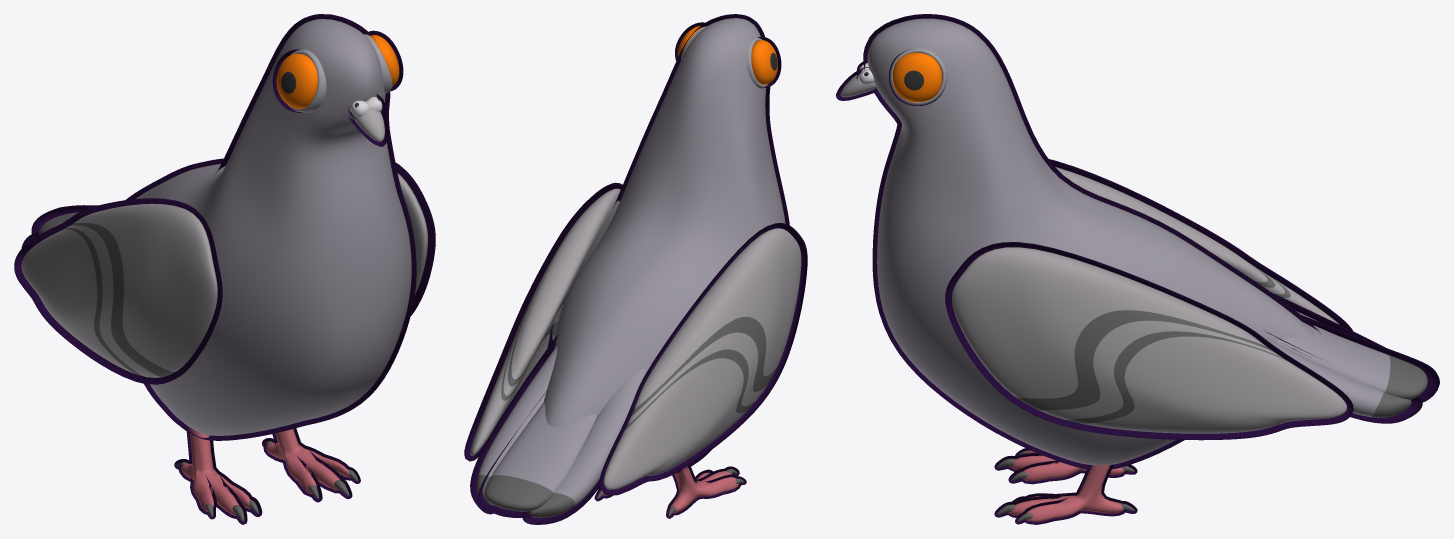
Rendered from pigeon.glb.
3 renders of one model, left to right at view 1: azimuth 30°, elevation 25°; view 2: azimuth 150°, elevation 25°; view 3: azimuth 270°, elevation 25°, orthographic. The views are drawn at different scales.
Parts seen in each view (by area): view 1: polySurface71, polySurface74, polySurface91, polySurface69, polySurface70, polySurface76, polySurface73, polySurface68, polySurface56, polySurface75; view 2: polySurface71, polySurface74, polySurface72, polySurface91, polySurface73, polySurface69, polySurface76; view 3: polySurface71, polySurface73, polySurface91, polySurface72, polySurface74, polySurface70, polySurface75, polySurface69, polySurface67.
Part boxes in pixels (<box>): polySurface71: <box>135,19,411,435</box>; polySurface74: <box>21,203,217,377</box>; polySurface91: <box>14,14,435,524</box>; polySurface69: <box>181,427,251,515</box>; polySurface70: <box>266,429,350,493</box>; polySurface76: <box>276,53,317,108</box>; polySurface73: <box>397,173,427,295</box>; polySurface68: <box>288,49,326,112</box>; polySurface56: <box>352,108,384,141</box>; polySurface75: <box>370,35,399,86</box>; polySurface71: <box>544,18,785,427</box>; polySurface74: <box>603,228,801,489</box>; polySurface72: <box>477,346,646,517</box>; polySurface91: <box>464,14,807,524</box>; polySurface73: <box>470,188,620,455</box>; polySurface69: <box>670,466,738,512</box>; polySurface76: <box>751,40,777,84</box>; polySurface71: <box>867,18,1313,465</box>; polySurface73: <box>952,247,1347,433</box>; polySurface91: <box>836,14,1439,524</box>; polySurface72: <box>1259,311,1427,417</box>; polySurface74: <box>1055,167,1339,324</box>; polySurface70: <box>1008,464,1123,521</box>; polySurface75: <box>892,52,942,102</box>; polySurface69: <box>1009,450,1124,481</box>; polySurface67: <box>890,48,947,105</box>.
Size of the model in its own units: 0.0472 by 0.0856 by 0.0978.
